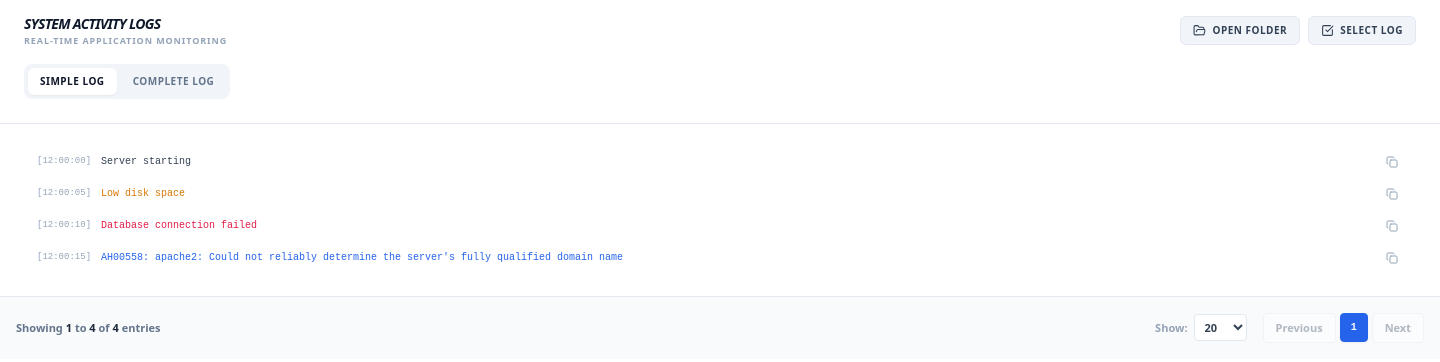
Test: LogViewer Component › Gmail-style Selection Mode, Shift+Click, Context Menu, and Batch Copy › toggles selection mode, shows checkboxes, and handles single/select-all selection
Click "Select Log" to enter selection mode
Click the button "Select Log": (1362, 31) 1308,16 -> 1416,45
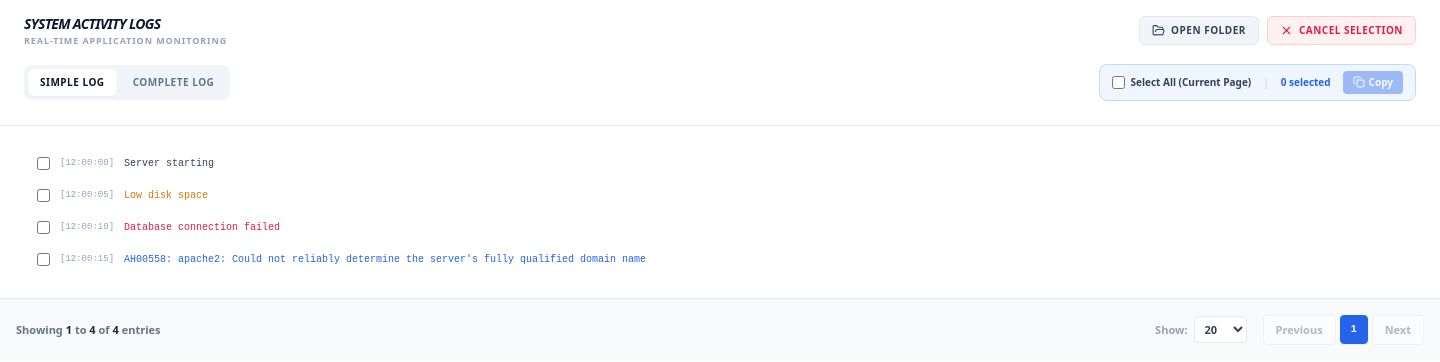
Now the button "Cancel Selection" is shown, box 1267,16 -> 1416,45
Now the number of checkboxes is 5
Check "Select All (Current Page)"
Click the checkbox labelled "Select All (Current Page)": (1118, 82) 1112,76 -> 1124,88
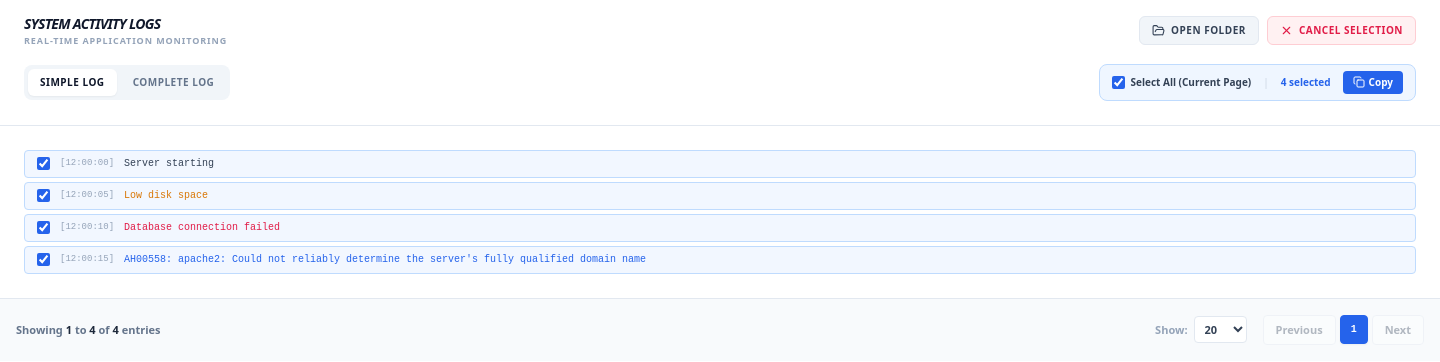
Now the text "4 selected" is shown, box 1281,74 -> 1331,90
Uncheck "Select All"
Click the checkbox labelled "Select All (Current Page)": (1118, 82) 1112,76 -> 1124,88
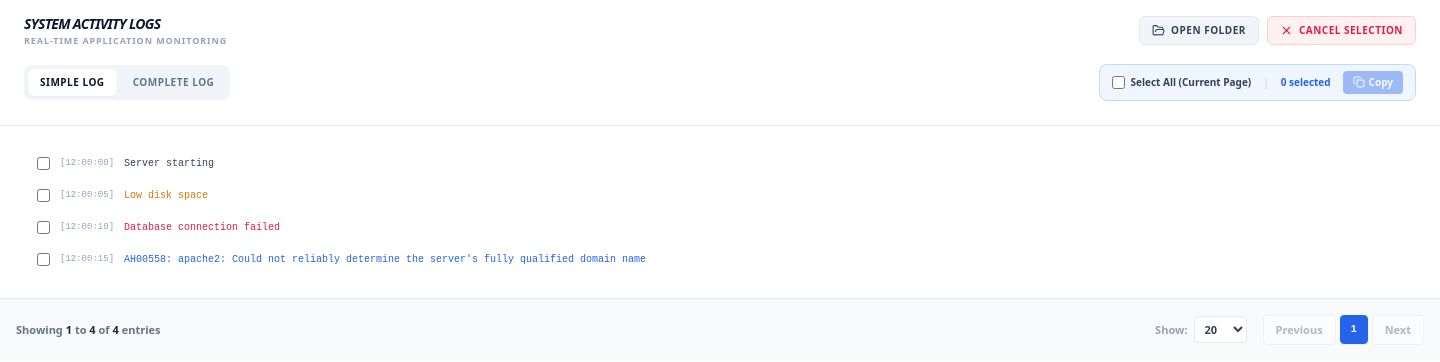
Now the text "0 selected" is shown, box 1281,74 -> 1331,90
Click "Cancel Selection" to exit selection mode
Click the button "Cancel Selection": (1341, 31) 1267,16 -> 1416,45
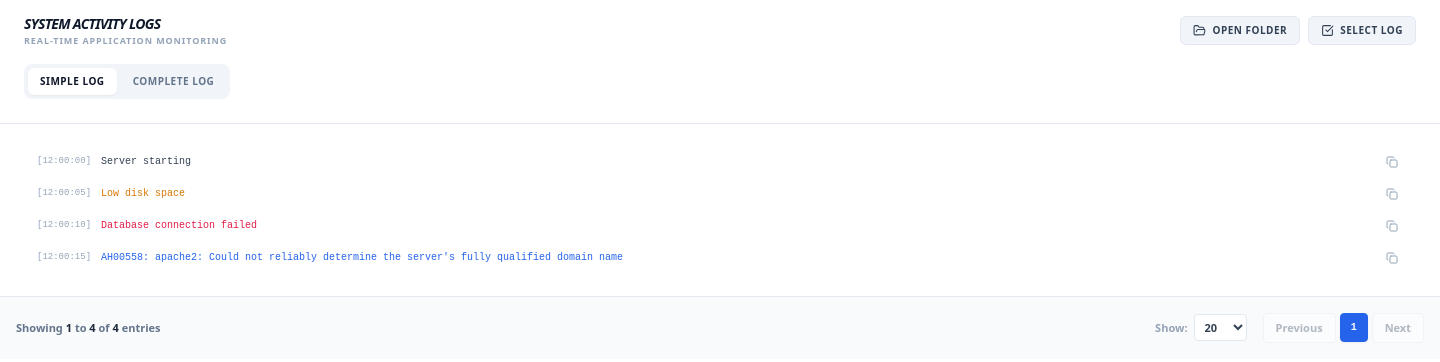
Now the checkbox is gone
Now the button "Select Log" is shown, box 1308,16 -> 1416,45
